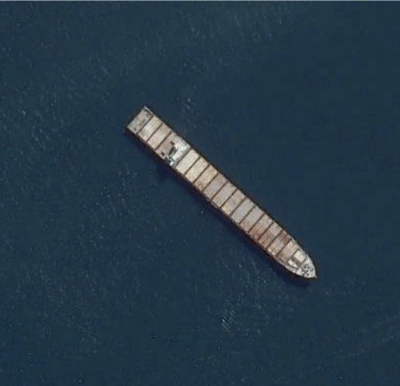boat: (125, 105, 318, 281)
